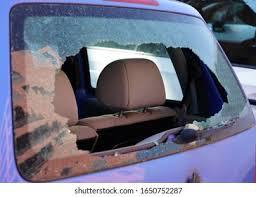Rear-windscreen-Damage: (0, 0, 255, 183)
